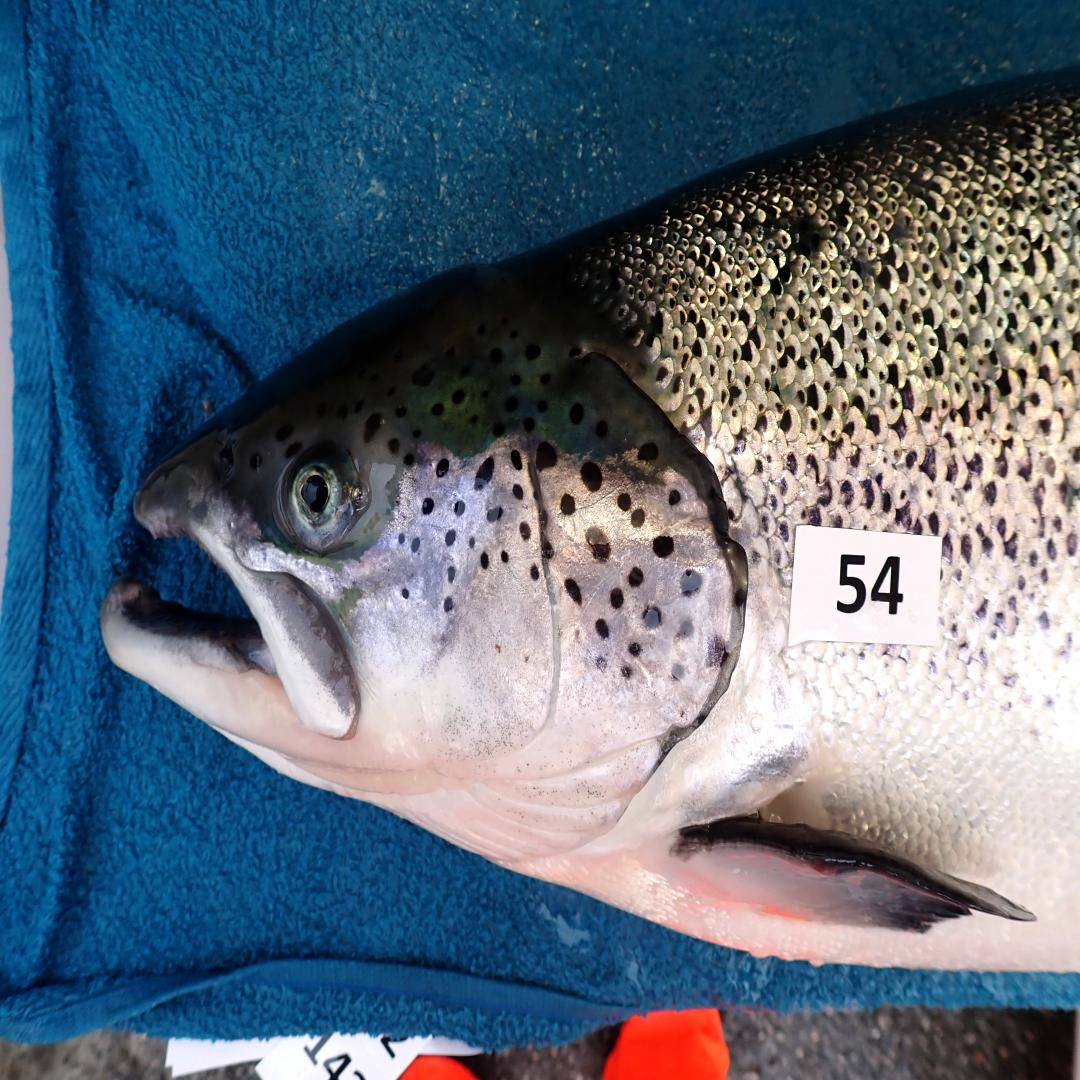roi: (351, 437, 741, 870)
